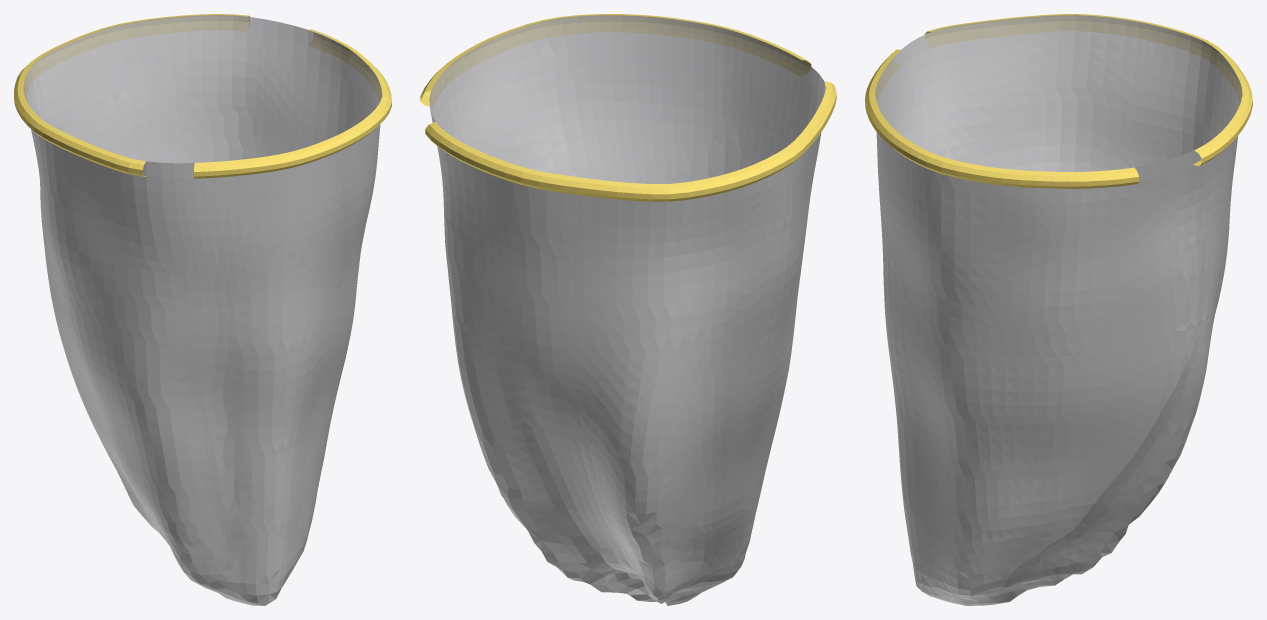
Rendered from Trashbag_drawstring.glb.
3 views of the same model, side by side, from view 1: azimuth 30°, elevation 25°; view 2: azimuth 150°, elevation 25°; view 3: azimuth 270°, elevation 25° (orthographic). The views are drawn at different scales.
Parts seen in each view (by area): view 1: bag, channel; view 2: bag, channel; view 3: bag, channel.
Part boxes in pixels (left/top/right/bottom): bag: left=23, top=15, right=382, bottom=605; channel: left=14, top=14, right=391, bottom=178; bag: left=429, top=15, right=825, bottom=605; channel: left=420, top=14, right=836, bottom=201; bag: left=875, top=15, right=1242, bottom=605; channel: left=865, top=14, right=1252, bottom=188.
Size of the model in its own units: 0.3642 by 0.5238 by 0.3604.
